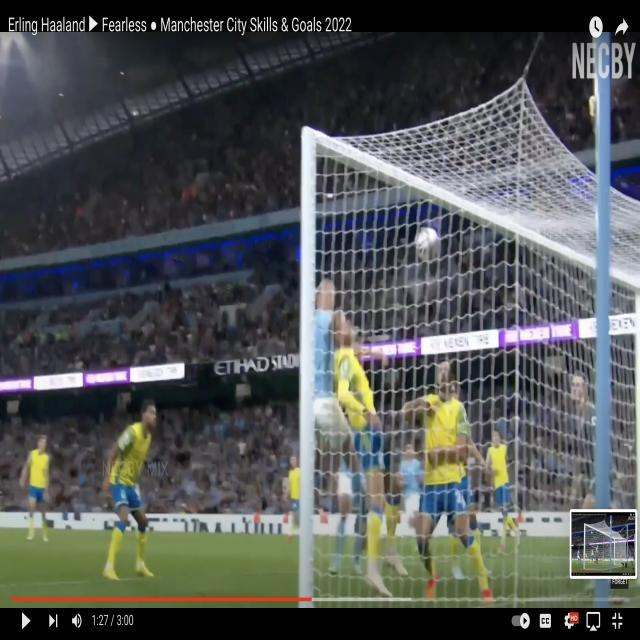Etihad Airways: (216, 354, 269, 376)
